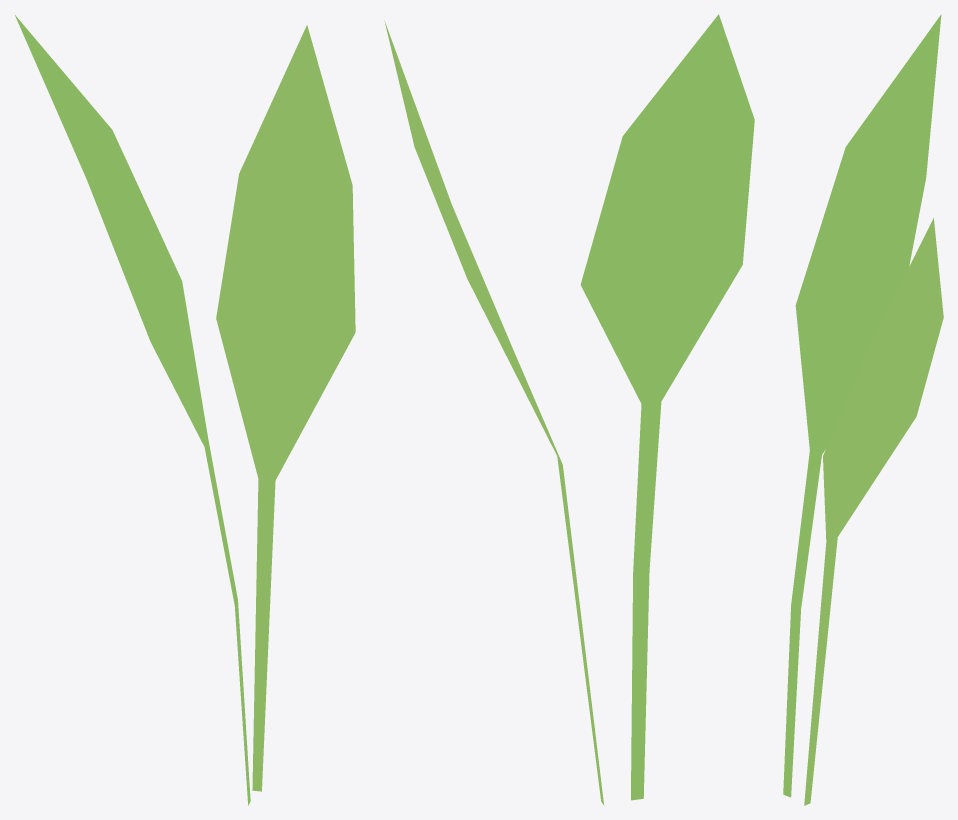
The model's file is Plant_g_OneS_02.fbx.
3 views of the same model, side by side, from view 1: azimuth 30°, elevation 25°; view 2: azimuth 150°, elevation 25°; view 3: azimuth 270°, elevation 25° (orthographic). The views are drawn at different scales.
Visible parts, largest first — view 1: Plant_g_OneS_02; view 2: Plant_g_OneS_02; view 3: Plant_g_OneS_02.
Part boxes in pixels (x1,y1,x2,y2): Plant_g_OneS_02: (15,15,355,805); Plant_g_OneS_02: (384,14,754,805); Plant_g_OneS_02: (783,14,943,805).
Bounding box in the file's own units: 0.2667 × 0.6538 × 0.1334.
